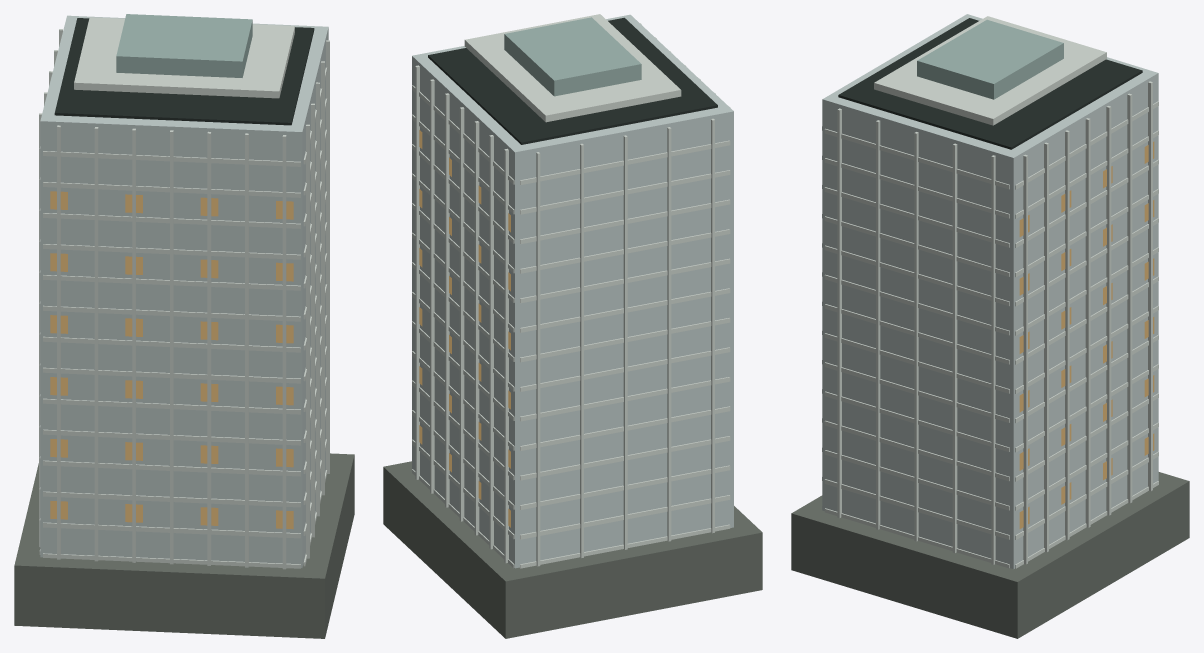
File: ketong-tower.glb
3 renders of one model, left to right at view 1: azimuth 30°, elevation 25°; view 2: azimuth 150°, elevation 25°; view 3: azimuth 270°, elevation 25°, orthographic. The views are drawn at different scales.
Parts seen in each view (by area): view 1: envelope, podium, fins, floor_bands, roof_deck, crown_box, crown_box.001, night_windows; view 2: envelope, podium, fins, floor_bands, roof_deck, crown_box.001, crown_box, night_windows; view 3: envelope, podium, fins, floor_bands, roof_deck, crown_box.001, crown_box, night_windows.
Part boxes in pixels (left/top/right/bottom): envelope: left=40, top=15, right=328, bottom=567; podium: left=14, top=453, right=354, bottom=638; fins: left=39, top=29, right=329, bottom=569; floor_bands: left=39, top=67, right=327, bottom=568; roof_deck: left=54, top=18, right=314, bottom=125; crown_box: left=74, top=17, right=294, bottom=98; crown_box.001: left=116, top=14, right=252, bottom=77; night_windows: left=50, top=191, right=293, bottom=529; envelope: left=412, top=14, right=733, bottom=568; podium: left=383, top=461, right=762, bottom=638; fins: left=415, top=23, right=730, bottom=566; floor_bands: left=412, top=85, right=730, bottom=568; roof_deck: left=428, top=17, right=717, bottom=144; crown_box.001: left=504, top=17, right=641, bottom=96; crown_box: left=464, top=14, right=681, bottom=122; night_windows: left=419, top=130, right=510, bottom=527; envelope: left=822, top=14, right=1158, bottom=569; podium: left=791, top=472, right=1189, bottom=638; fins: left=837, top=81, right=1152, bottom=564; floor_bands: left=822, top=101, right=1158, bottom=568; roof_deck: left=838, top=18, right=1142, bottom=149; crown_box.001: left=917, top=19, right=1063, bottom=99; crown_box: left=874, top=16, right=1106, bottom=125; night_windows: left=1019, top=141, right=1154, bottom=528.
Size of the model in its own units: 76.85 by 106 by 76.16.
